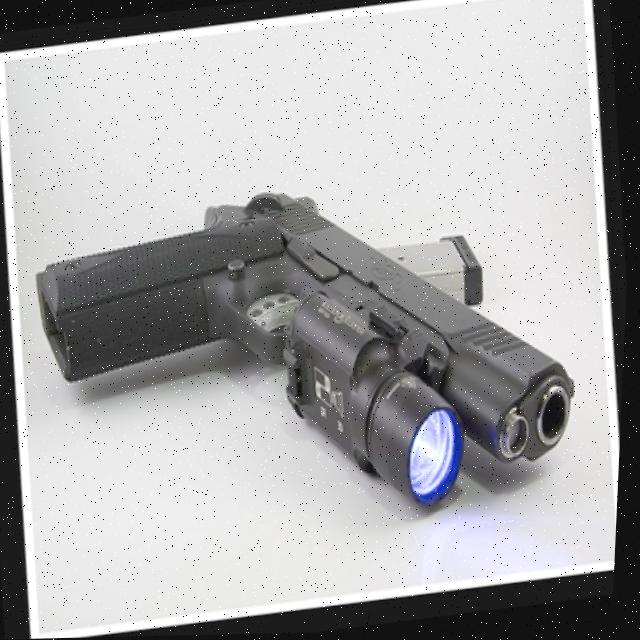pistol: (20, 157, 595, 554)
